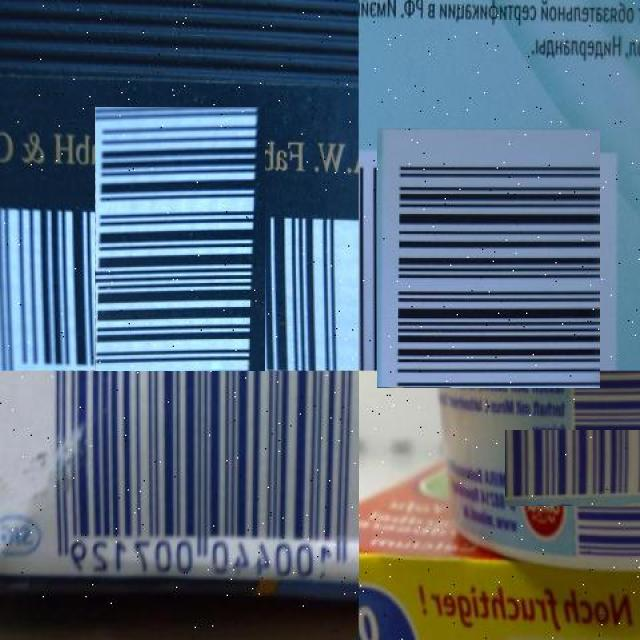Barcode: (47, 154, 312, 418), (42, 371, 358, 576), (368, 138, 610, 380), (535, 400, 640, 535)
